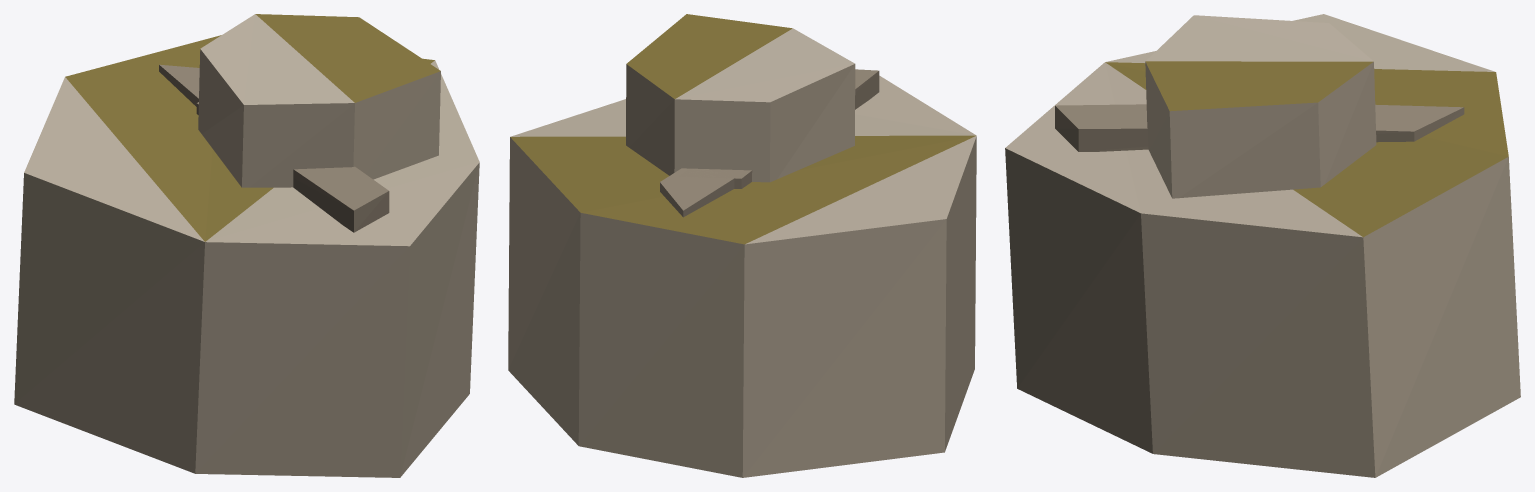
The model's file is rock.ledge__outcrop__autumn.glb.
The picture shows the model from 3 angles, left to right: view 1: azimuth 30°, elevation 25°; view 2: azimuth 150°, elevation 25°; view 3: azimuth 270°, elevation 25°; orthographic projection. The views are drawn at different scales.
Parts seen in each view (by area): view 1: rock.ledge; view 2: rock.ledge; view 3: rock.ledge.
Part boxes in pixels (<box>): rock.ledge: <box>14,14,479,477</box>; rock.ledge: <box>508,14,976,477</box>; rock.ledge: <box>1005,14,1520,477</box>.
Bounding box in the file's own units: 3.09 × 2.25 × 3.08.
